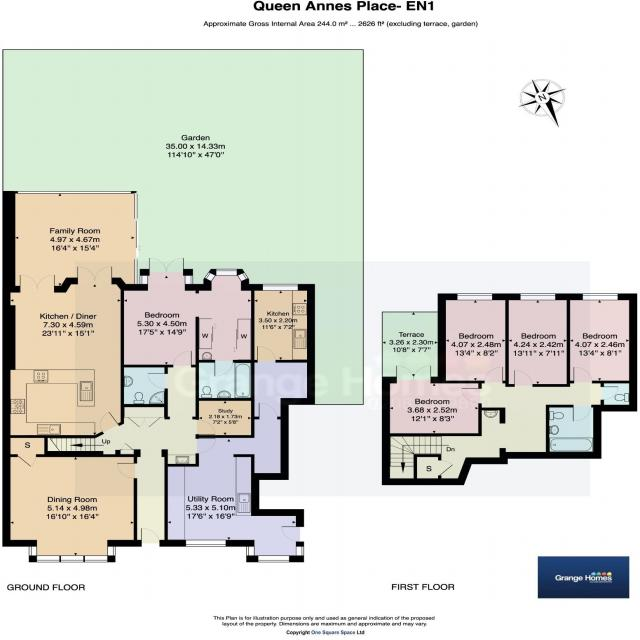DOOR: (99, 411, 120, 434), (140, 527, 160, 547), (281, 526, 305, 542), (116, 462, 138, 479), (256, 345, 276, 363), (172, 350, 192, 368), (461, 387, 482, 404), (147, 373, 168, 390), (195, 419, 216, 436), (573, 366, 593, 383), (483, 366, 503, 383), (258, 402, 278, 419), (214, 360, 234, 377), (195, 438, 216, 454), (514, 370, 533, 387)
DOUBLE DOOR: (20, 274, 55, 293), (149, 257, 184, 276), (396, 365, 431, 384), (77, 266, 113, 284)
ROOM: (164, 402, 305, 562), (2, 266, 126, 438), (2, 435, 141, 563), (120, 257, 255, 368), (381, 365, 482, 437), (438, 293, 509, 387), (566, 293, 637, 383), (505, 293, 570, 387), (251, 284, 315, 363)
WINDOW: (28, 546, 116, 563), (185, 539, 226, 547), (258, 555, 290, 563), (582, 293, 618, 300), (520, 293, 556, 300), (457, 293, 493, 300), (262, 284, 298, 291), (216, 269, 237, 276), (204, 272, 216, 282), (237, 272, 249, 282), (245, 546, 255, 556), (295, 546, 304, 556), (184, 275, 193, 285), (139, 275, 148, 284)
